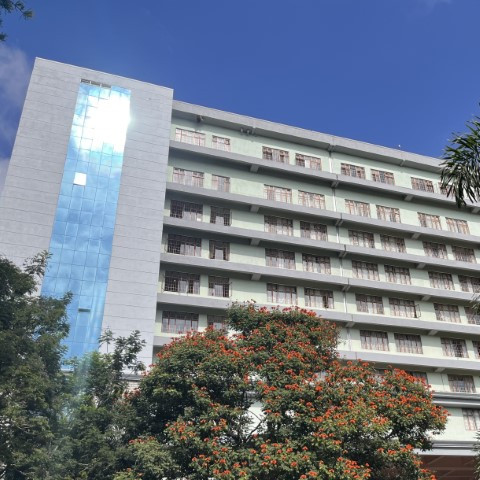Central Block: (8, 47, 480, 480)
